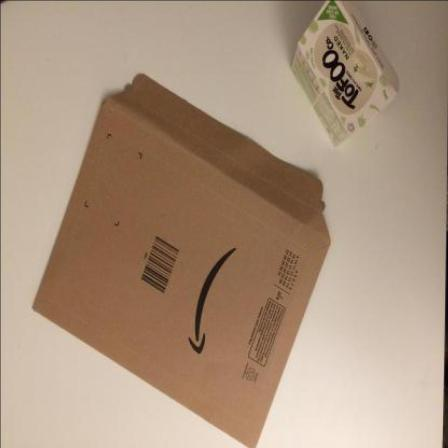Carton: (32, 75, 332, 448), (292, 1, 400, 149)
